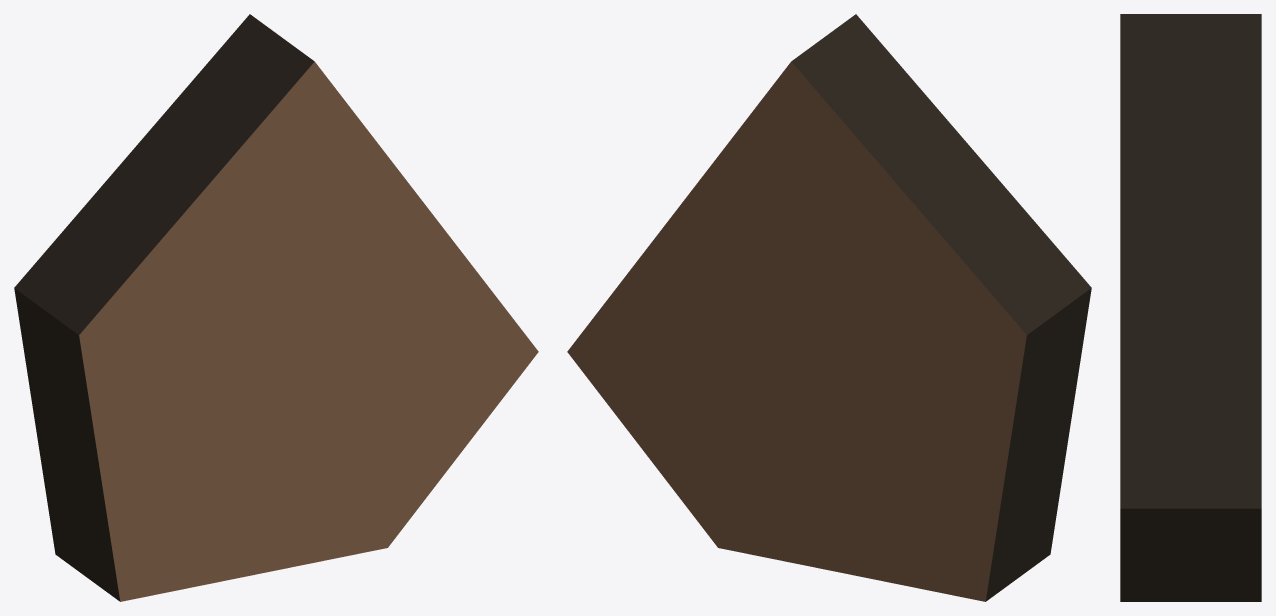
File: SM_DoorShard_02_19.fbx
3 views of the same model, side by side, from view 1: azimuth 30°, elevation 25°; view 2: azimuth 150°, elevation 25°; view 3: azimuth 270°, elevation 25° (orthographic). The views are drawn at different scales.
Parts seen in each view (by area): view 1: SM_DoorShard_02_19; view 2: SM_DoorShard_02_19; view 3: SM_DoorShard_02_19.
Boxes of the visible parts, left/top/right/bottom form: SM_DoorShard_02_19: left=14, top=14, right=538, bottom=601; SM_DoorShard_02_19: left=567, top=14, right=1091, bottom=601; SM_DoorShard_02_19: left=1120, top=14, right=1261, bottom=601.
Bounding box in the file's own units: 65.46 × 16 × 68.62.
